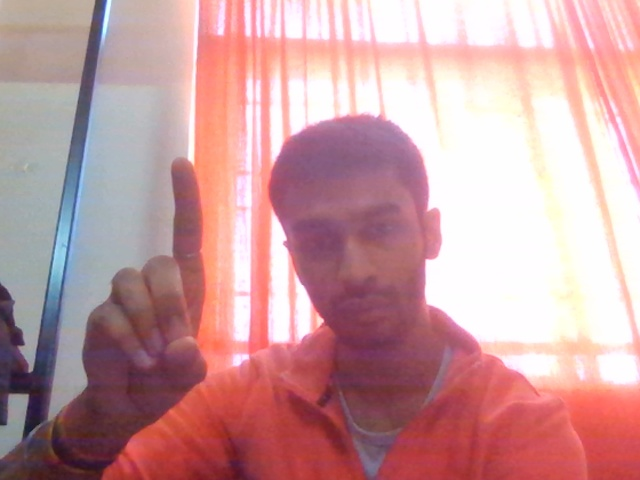D: (71, 150, 240, 449)
